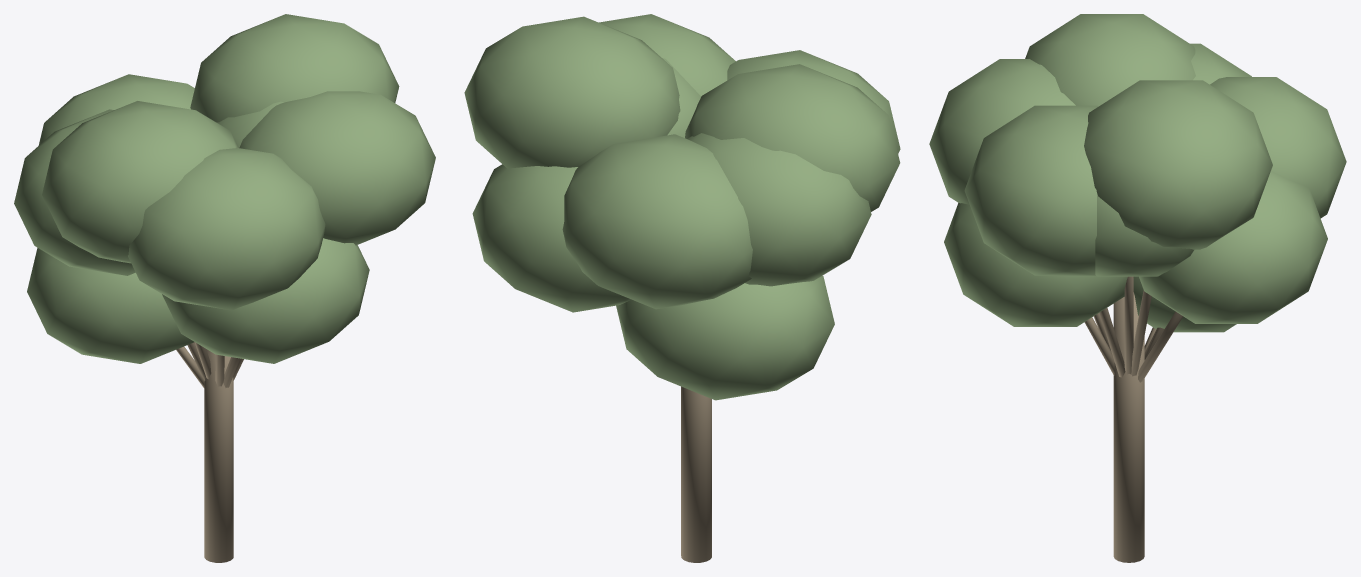
Rendered from tyne-oak_lod0.glb.
3 views of the same model, side by side, from view 1: azimuth 30°, elevation 25°; view 2: azimuth 150°, elevation 25°; view 3: azimuth 270°, elevation 25° (orthographic). The views are drawn at different scales.
Visible parts, largest first — view 1: RF_Foliage.007, RF_Foliage.005, RF_Foliage.004, RF_Foliage.008, RF_Foliage.002, RF_Foliage.001, RF_Trunk, RF_Foliage.009, RF_Foliage.006, RF_Foliage; view 2: RF_Foliage.006, RF_Foliage.008, RF_Foliage.001, RF_Foliage.004, RF_Foliage.009, RF_Foliage.003, RF_Trunk, RF_Foliage.005, RF_Foliage.007, RF_Foliage; view 3: RF_Foliage.008, RF_Foliage.005, RF_Foliage.003, RF_Foliage.004, RF_Foliage.002, RF_Foliage.007, RF_Foliage.006, RF_Trunk, RF_Foliage, RF_Foliage.001, RF_Foliage.009, RF_Branch.001 (+4 smaller).
Boxes of the visible parts, x1,y1,x2,y2 form: RF_Foliage.007: (128,147,325,310); RF_Foliage.005: (239,91,435,245); RF_Foliage.004: (42,101,238,263); RF_Foliage.008: (190,14,399,122); RF_Foliage.002: (162,238,369,363); RF_Foliage.001: (27,247,194,363); RF_Trunk: (204,349,233,562); RF_Foliage.009: (14,109,135,275); RF_Foliage.006: (38,74,194,145); RF_Foliage: (217,101,284,147); RF_Foliage.006: (562,134,752,309); RF_Foliage.008: (464,16,680,168); RF_Foliage.001: (616,275,834,400); RF_Foliage.004: (685,64,900,211); RF_Foliage.009: (687,133,871,286); RF_Foliage.003: (472,164,630,312); RF_Trunk: (681,386,711,562); RF_Foliage.005: (599,14,735,96); RF_Foliage.007: (727,50,900,153); RF_Foliage: (662,58,701,137); RF_Foliage.008: (1084,80,1272,249); RF_Foliage.005: (964,105,1098,275); RF_Foliage.003: (1139,170,1327,323); RF_Foliage.004: (1025,14,1195,106); RF_Foliage.002: (944,202,1133,326); RF_Foliage.007: (929,59,1075,204); RF_Foliage.006: (1210,77,1346,218); RF_Trunk: (1113,292,1144,562); RF_Foliage: (1095,193,1193,276); RF_Foliage.001: (1133,276,1236,332); RF_Foliage.009: (1190,43,1251,84); RF_Branch.001: (1124,276,1133,374).
Bounding box in the file's own units: 9.34 × 12.38 × 9.08.
